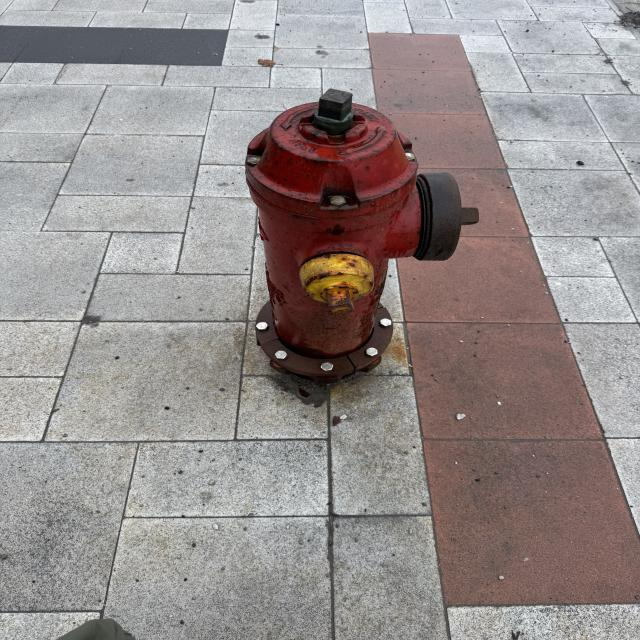Fire hydrant: (243, 89, 482, 385)
